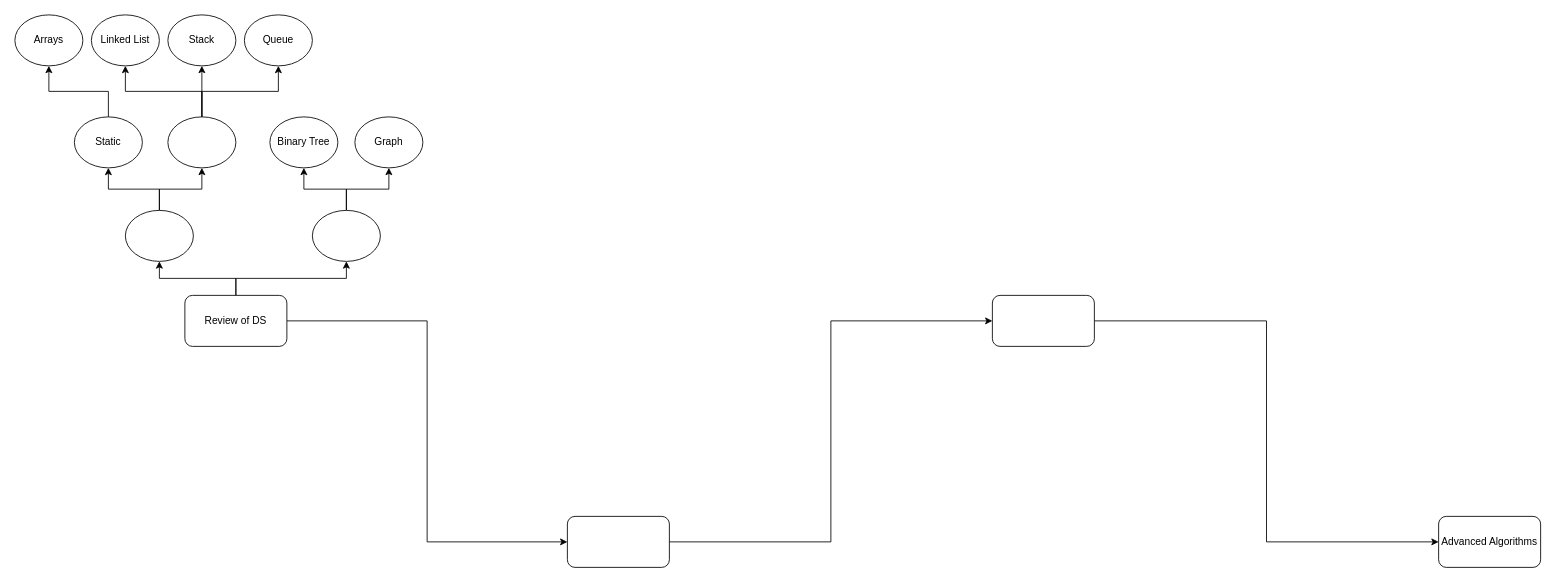
Image size: 1556x582. Some labels were removed from this diagram. The shapes that lost their labels are listed below. From the top down, each one's centre as x and y in pixels, then its label:
At point 201,142: "Dynamic".
At point 159,235: "Linear".
At point 346,235: "Non-Linear".
At point 1043,320: "Review on Algorithms".
At point 618,541: "Foucs on each DS and its Big O".
